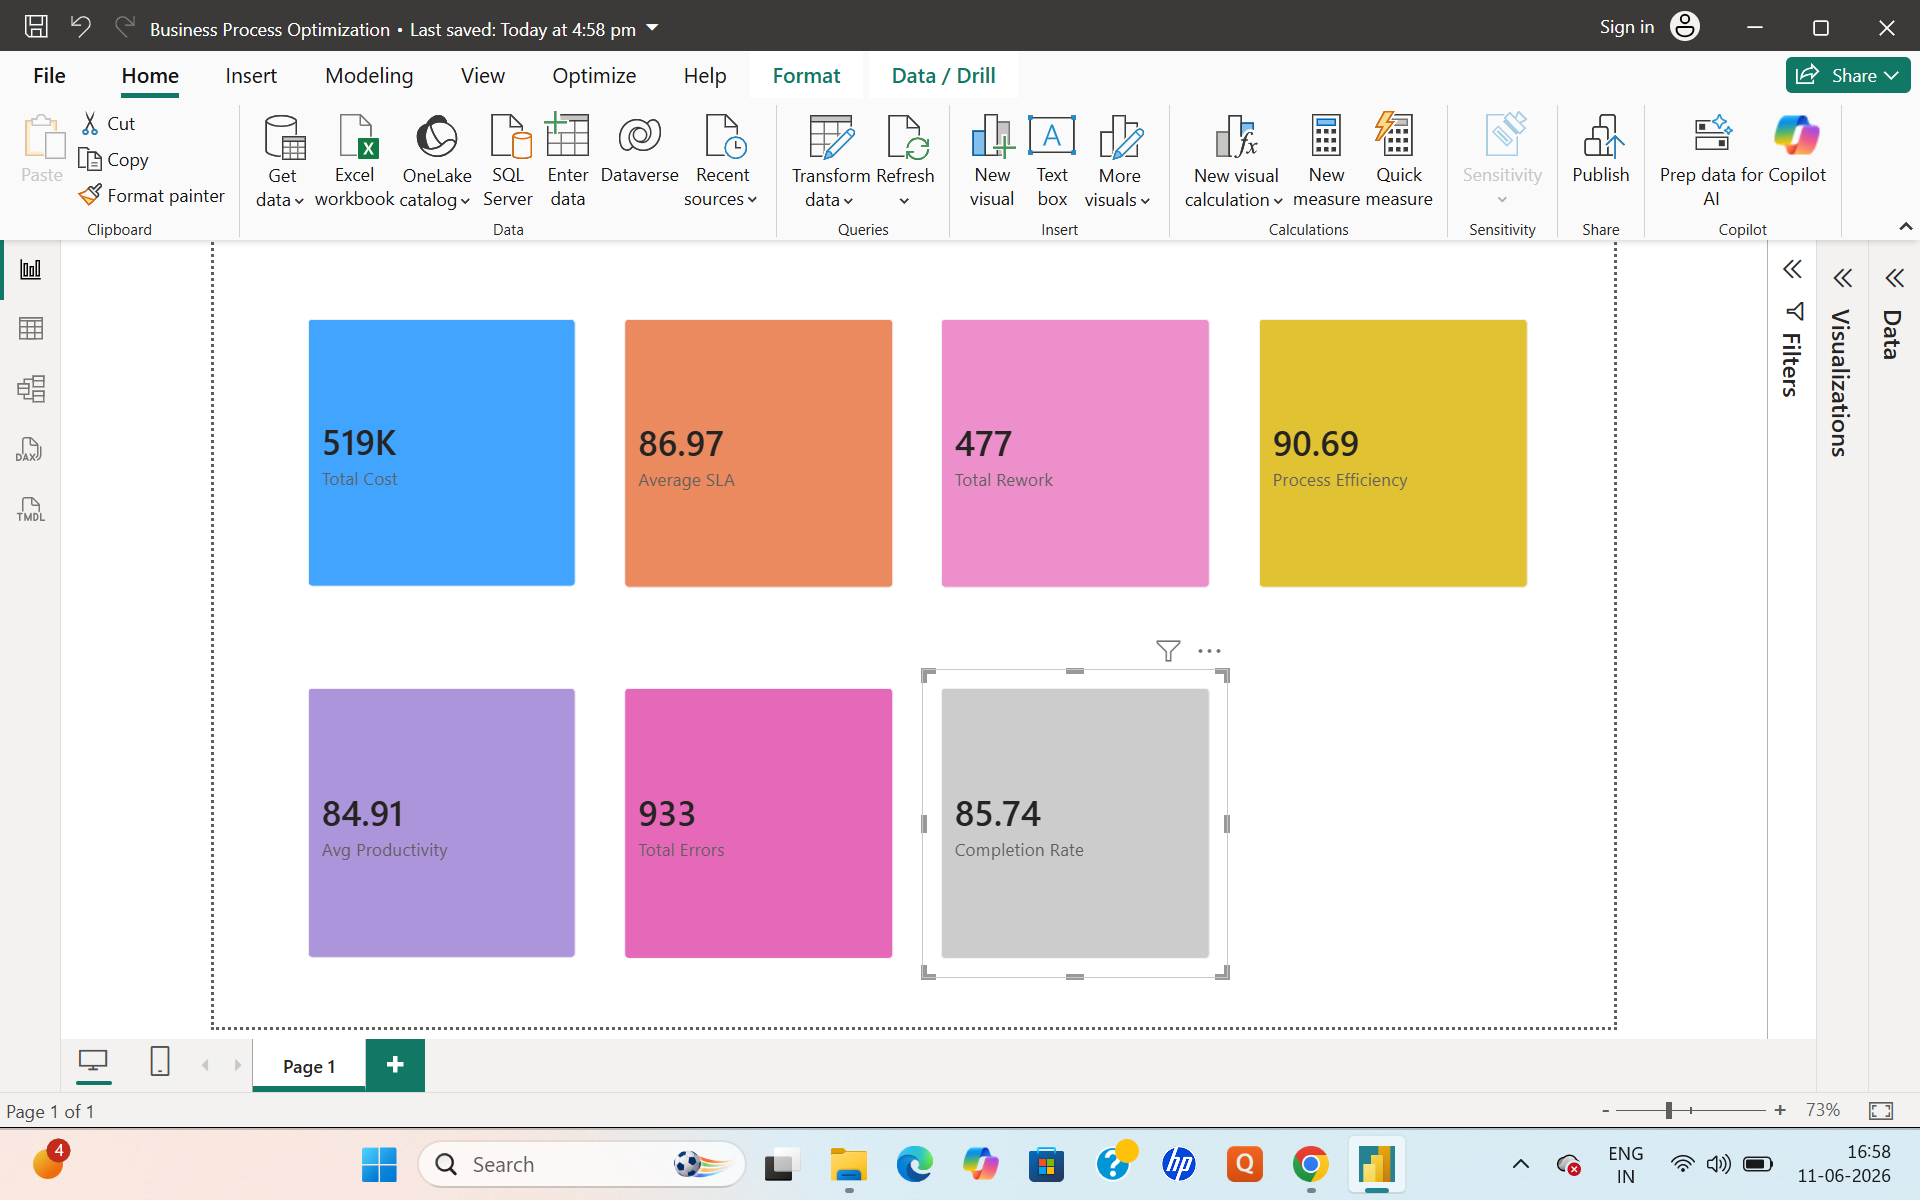

What the dashboard file says about the page in this screenshot:
{"tool":"powerbi","page":{"name":"Page 1","canvas":[1280,720],"ordinal":0},"visuals":[{"type":"cardVisual","fields":{"Data":["Business_Process_Optimization_Dataset csv.Total Cost"]},"box":[68,54.8,279.7,279.7],"z":0},{"type":"cardVisual","fields":{"Data":["Business_Process_Optimization_Dataset csv.Avg Productivity"]},"box":[68,393.1,279.7,281.6],"z":1},{"type":"cardVisual","fields":{"Data":["Business_Process_Optimization_Dataset csv.Average SLA"]},"box":[358,55,280,280],"z":2},{"type":"cardVisual","fields":{"Data":["Business_Process_Optimization_Dataset csv.Total Errors"]},"box":[358,393,280,282],"z":3},{"type":"cardVisual","fields":{"Data":["Business_Process_Optimization_Dataset csv.Total Rework"]},"box":[648,55,280,280],"z":4},{"type":"cardVisual","fields":{"Data":["Business_Process_Optimization_Dataset csv.Completion Rate"]},"box":[648,393,280,282],"z":5},{"type":"cardVisual","fields":{"Data":["Business_Process_Optimization_Dataset csv.Process Efficiency"]},"box":[938,55,280,280],"z":6}]}

Visuals, with their boxes on the page's 1280x720 design canvas (x1, y1, x2, y2). These are canvas units, not pixel positions in the 1920x1200 screenshot, which may show the page scaled, cropped or inside an application window:
cardVisual - Business_Process_Optimization_Dataset csv.Total Cost: [68,55,348,334]
cardVisual - Business_Process_Optimization_Dataset csv.Avg Productivity: [68,393,348,675]
cardVisual - Business_Process_Optimization_Dataset csv.Average SLA: [358,55,638,335]
cardVisual - Business_Process_Optimization_Dataset csv.Total Errors: [358,393,638,675]
cardVisual - Business_Process_Optimization_Dataset csv.Total Rework: [648,55,928,335]
cardVisual - Business_Process_Optimization_Dataset csv.Completion Rate: [648,393,928,675]
cardVisual - Business_Process_Optimization_Dataset csv.Process Efficiency: [938,55,1218,335]
